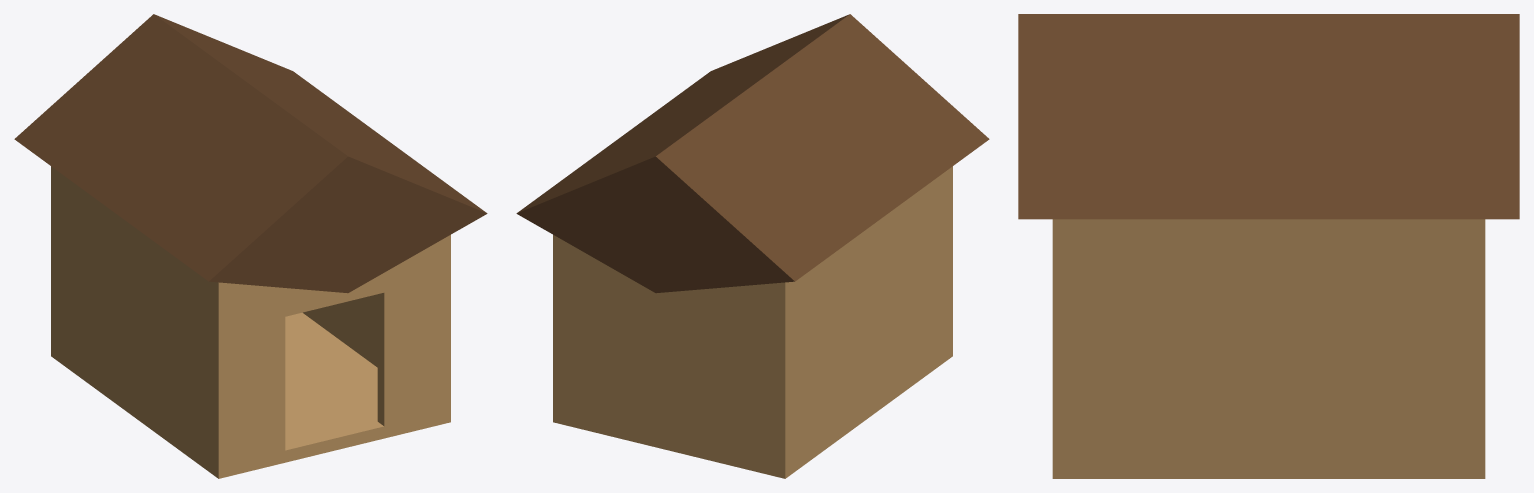
Rendered from FM_DogHouse_01.glb.
3 views of the same model, side by side, from view 1: azimuth 30°, elevation 25°; view 2: azimuth 150°, elevation 25°; view 3: azimuth 270°, elevation 25° (orthographic). The views are drawn at different scales.
Visible parts, largest first — view 1: FM_DogHouse_01; view 2: FM_DogHouse_01; view 3: FM_DogHouse_01.
Boxes of the visible parts, left/top/right/bottom form: FM_DogHouse_01: left=14, top=14, right=487, bottom=478; FM_DogHouse_01: left=516, top=14, right=989, bottom=478; FM_DogHouse_01: left=1018, top=14, right=1519, bottom=478.
Bounding box in the file's own units: 0.96 × 1 × 1.16.
1 material, 1 textured.
